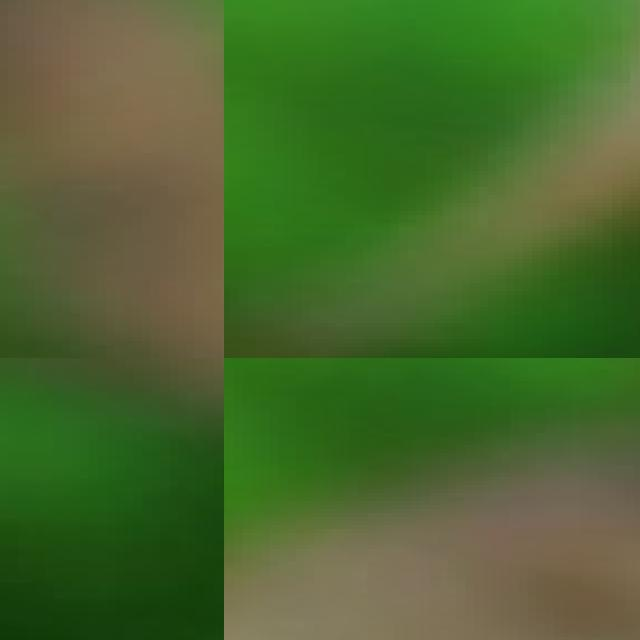fish: (224, 389, 640, 640), (0, 0, 224, 358)
